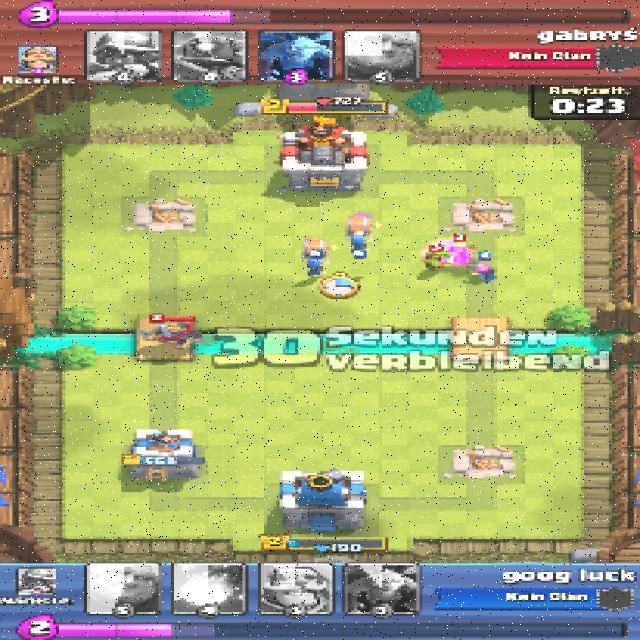Enemy-Goblin: (424, 245, 452, 271), (446, 238, 476, 261)
Enemy-Knight: (130, 320, 203, 348)
Player-Archer: (468, 264, 498, 282)
Player-Wallbreaker: (346, 216, 386, 258), (299, 238, 336, 276)
